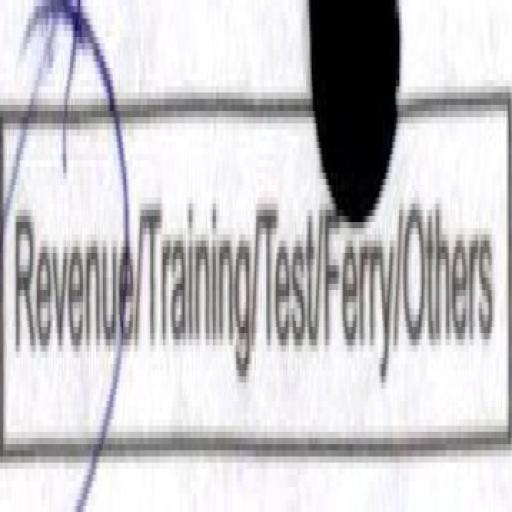check: (1, 11, 135, 503)
